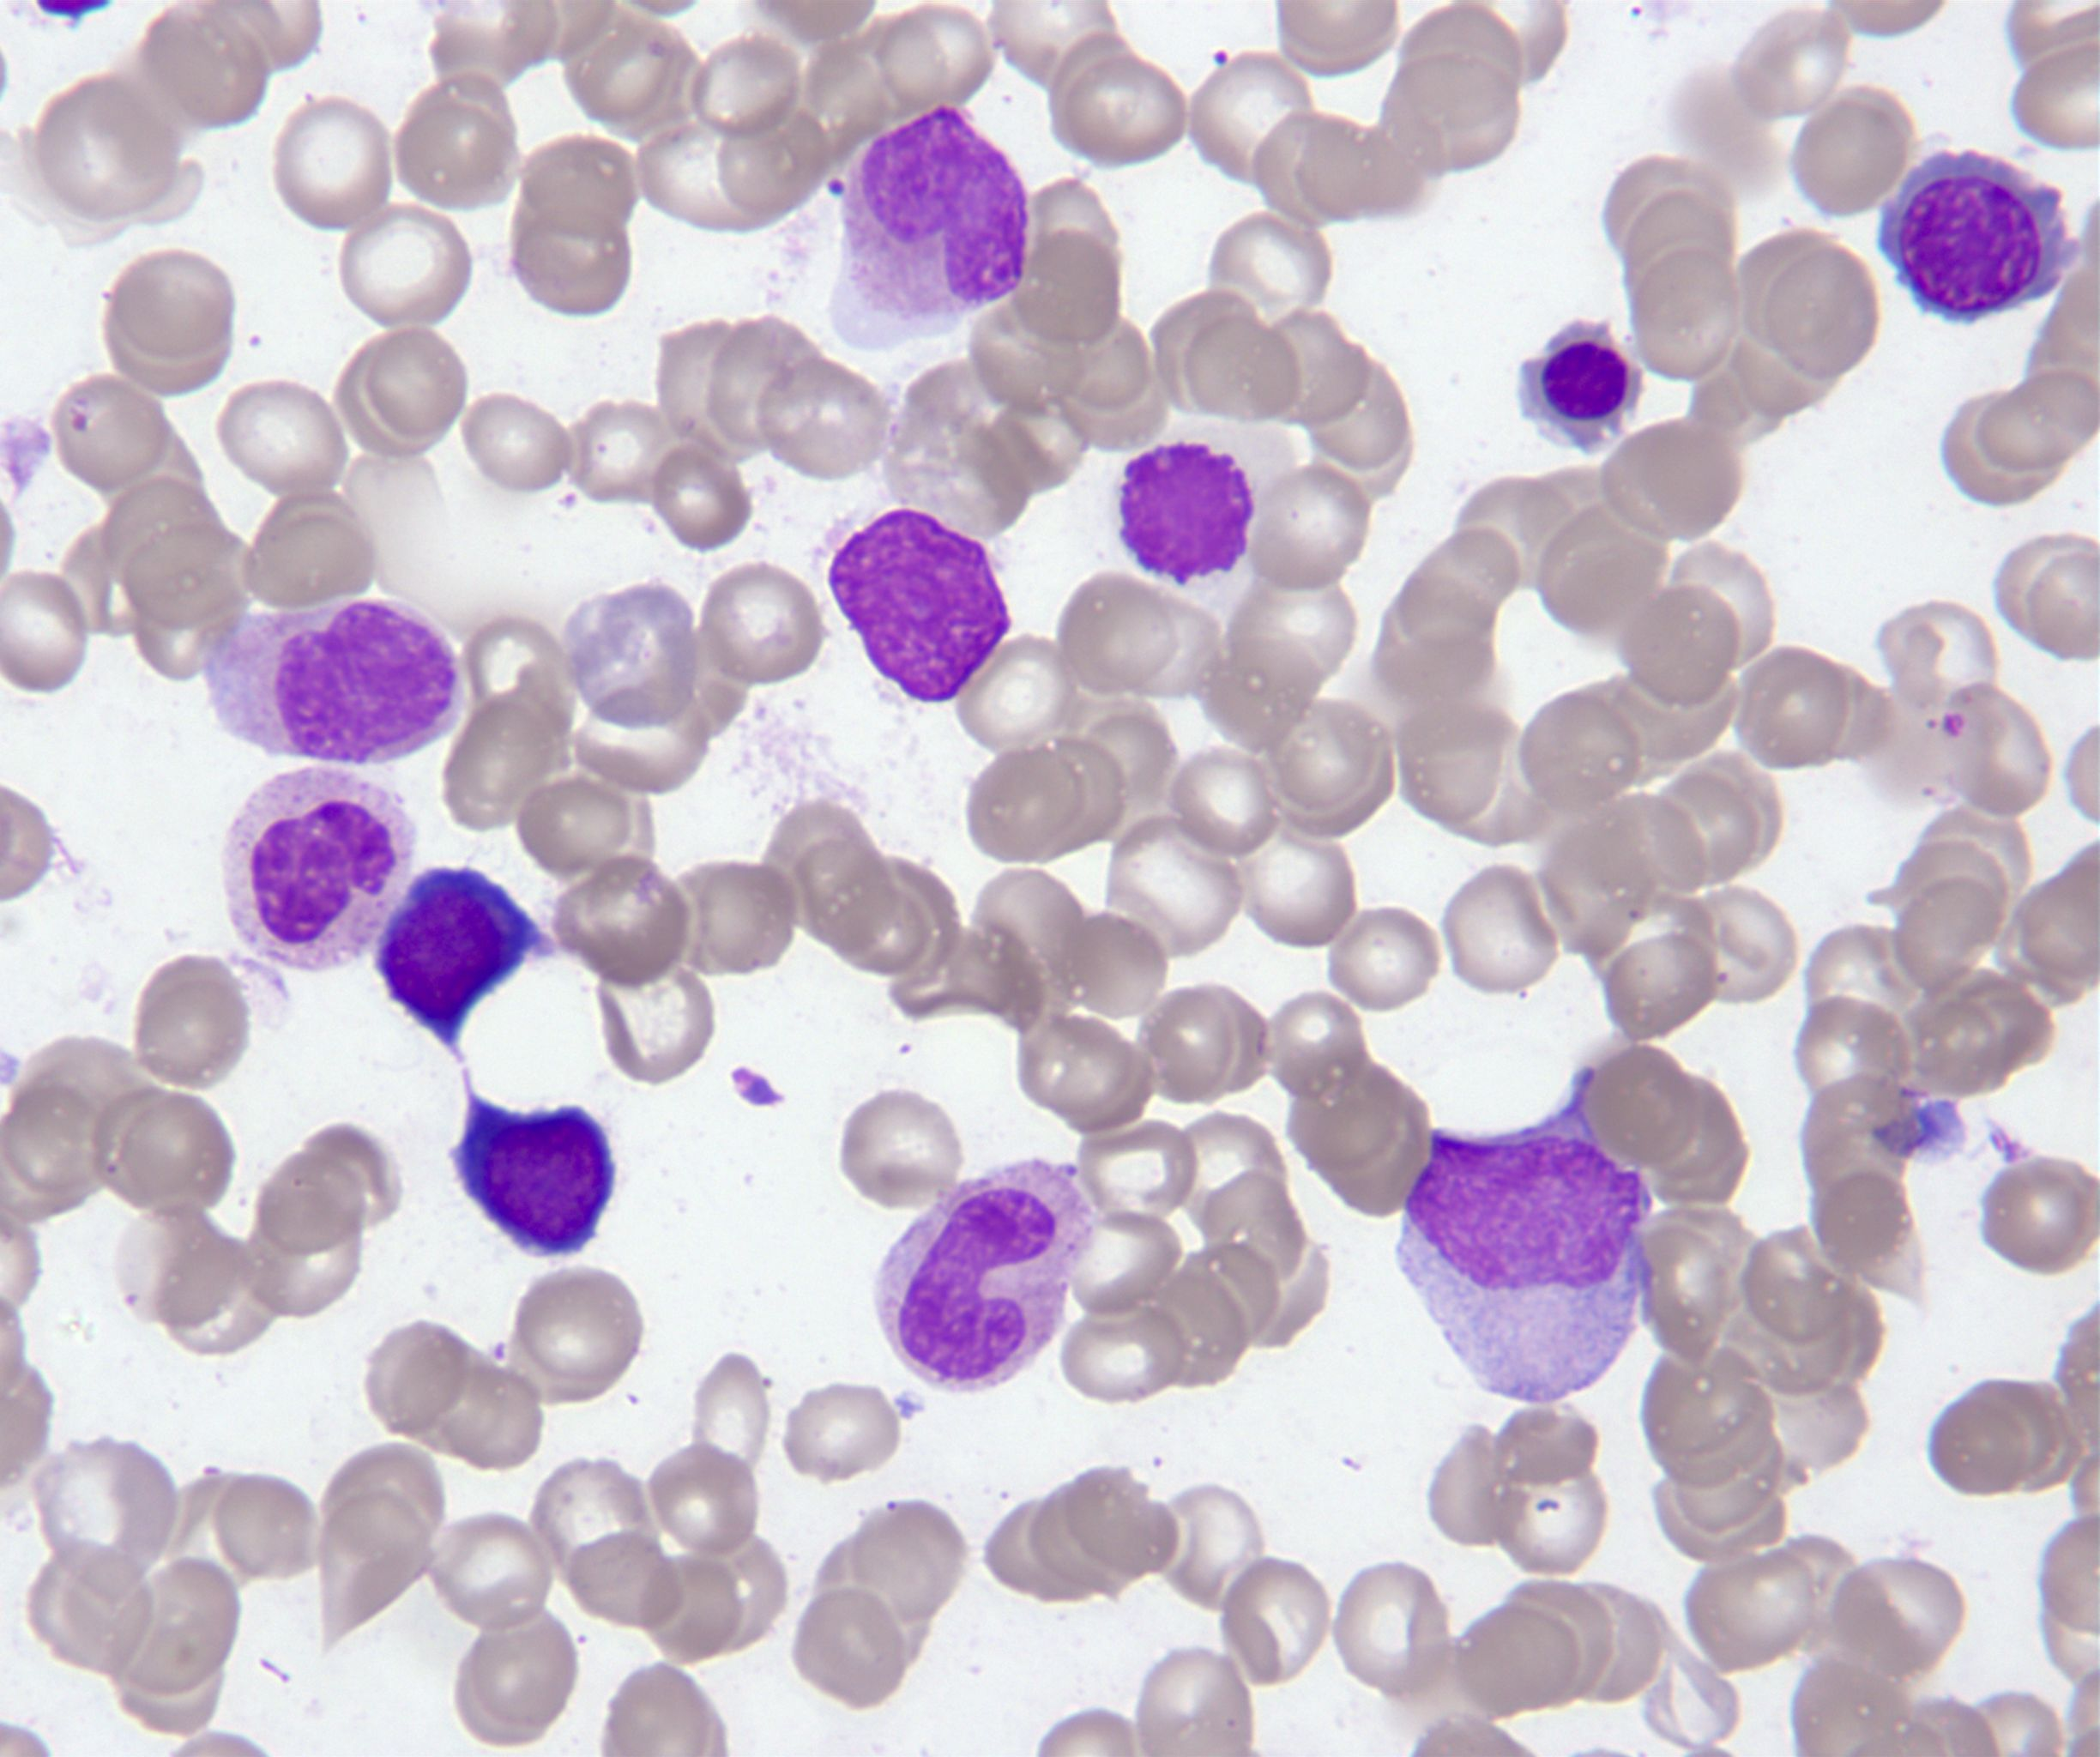23: (1873, 138, 2083, 332), (368, 862, 553, 1063), (445, 1089, 626, 1267)
24: (1502, 311, 1657, 457)
3: (1387, 1059, 1657, 1413)
4: (862, 1152, 1102, 1405), (823, 98, 1036, 352), (199, 586, 478, 769)
5: (215, 766, 420, 981)
x: (822, 496, 1020, 712), (1102, 436, 1275, 609)
